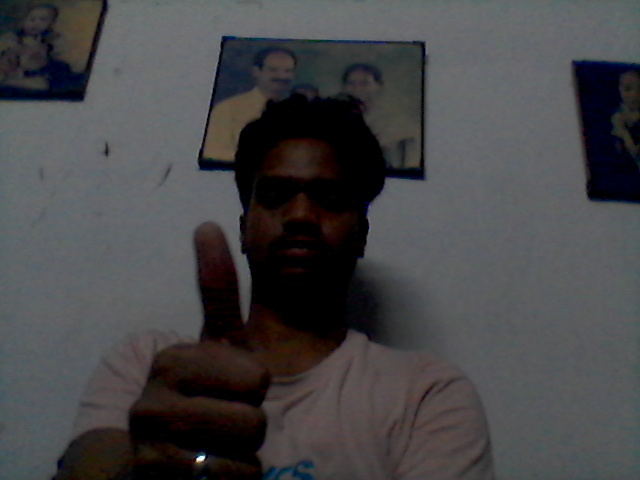Fine: (126, 206, 275, 480)
